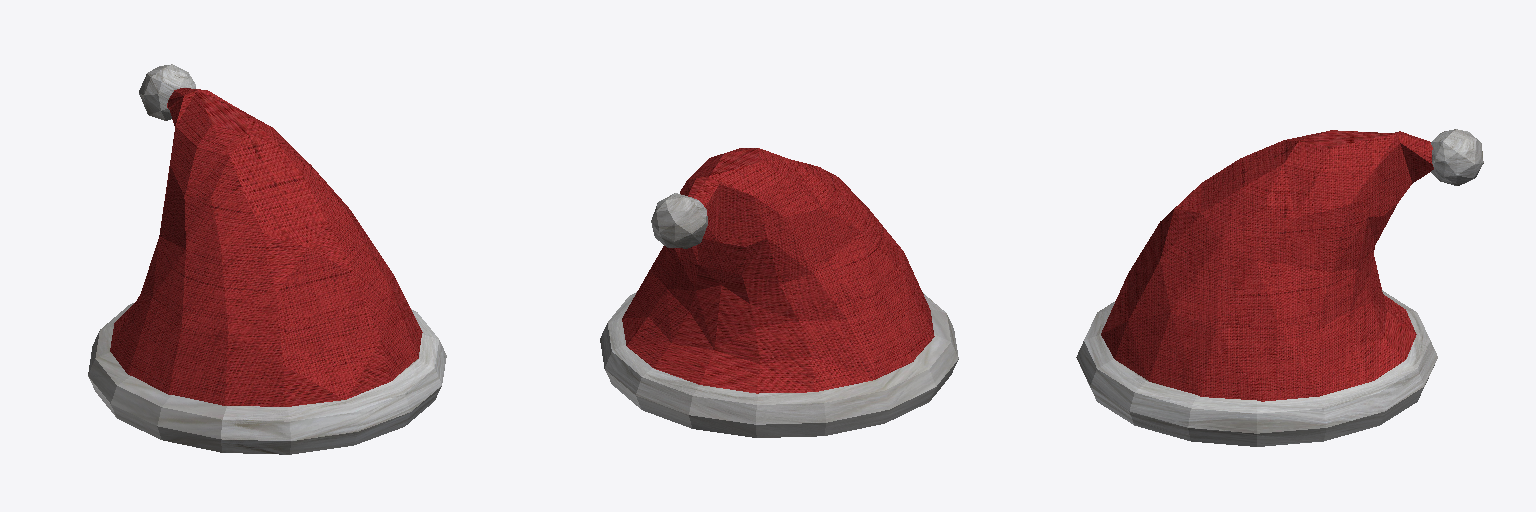
3 views of the same model, side by side, from view 1: azimuth 30°, elevation 25°; view 2: azimuth 150°, elevation 25°; view 3: azimuth 270°, elevation 25° (orthographic).
Visible parts, largest first — view 1: body.001; view 2: body.001; view 3: body.001.
Boxes of the visible parts, x1=… form: body.001: x1=88, y1=64, x2=446, y2=454; body.001: x1=600, y1=148, x2=958, y2=437; body.001: x1=1076, y1=129, x2=1483, y2=446.
Bounding box in the file's own units: 3.43 × 2.61 × 3.86.
2 materials, 2 textured.